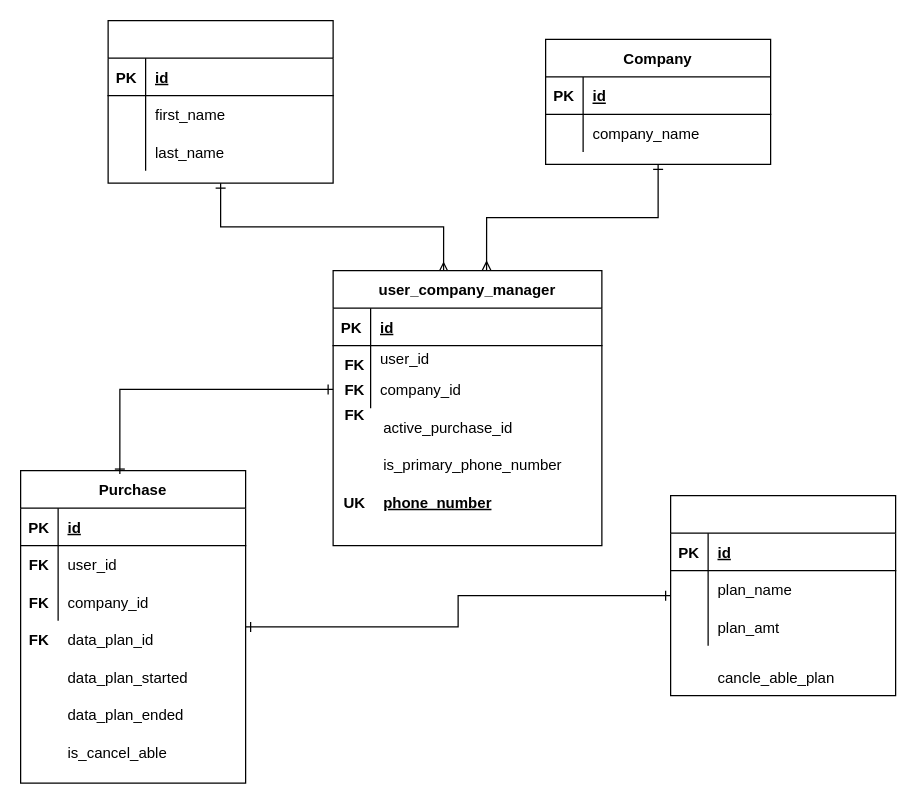
Image size: 916x804. Some labels were removed from this diagram. The box of each missing label's shape, as (x1, y1, x2, y2) in pixels:
Data Plan: (669, 494, 896, 696)
User: (107, 19, 333, 183)
